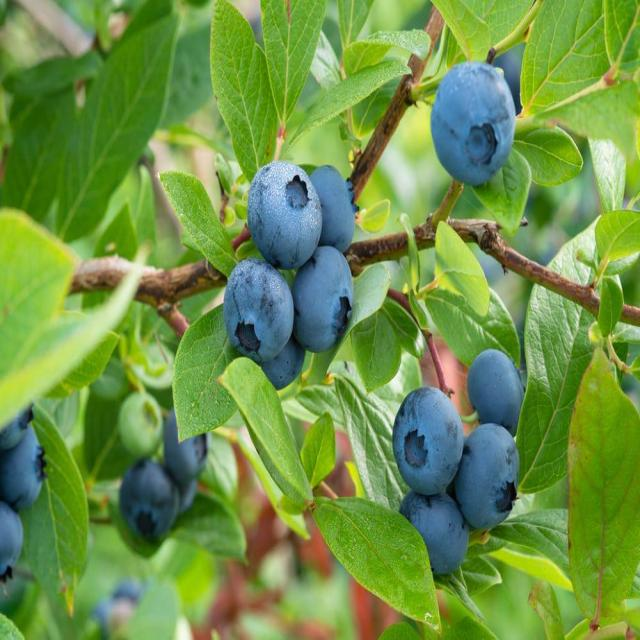BlueBerry - v1: (422, 54, 522, 190), (238, 152, 325, 276), (389, 479, 476, 592), (390, 381, 469, 502), (449, 418, 528, 532), (460, 336, 532, 452), (219, 255, 296, 361), (288, 243, 360, 353), (112, 457, 186, 548), (300, 154, 362, 254), (159, 399, 214, 491), (241, 333, 309, 403), (0, 421, 53, 508), (109, 385, 166, 462), (0, 503, 35, 591), (0, 390, 36, 458)
